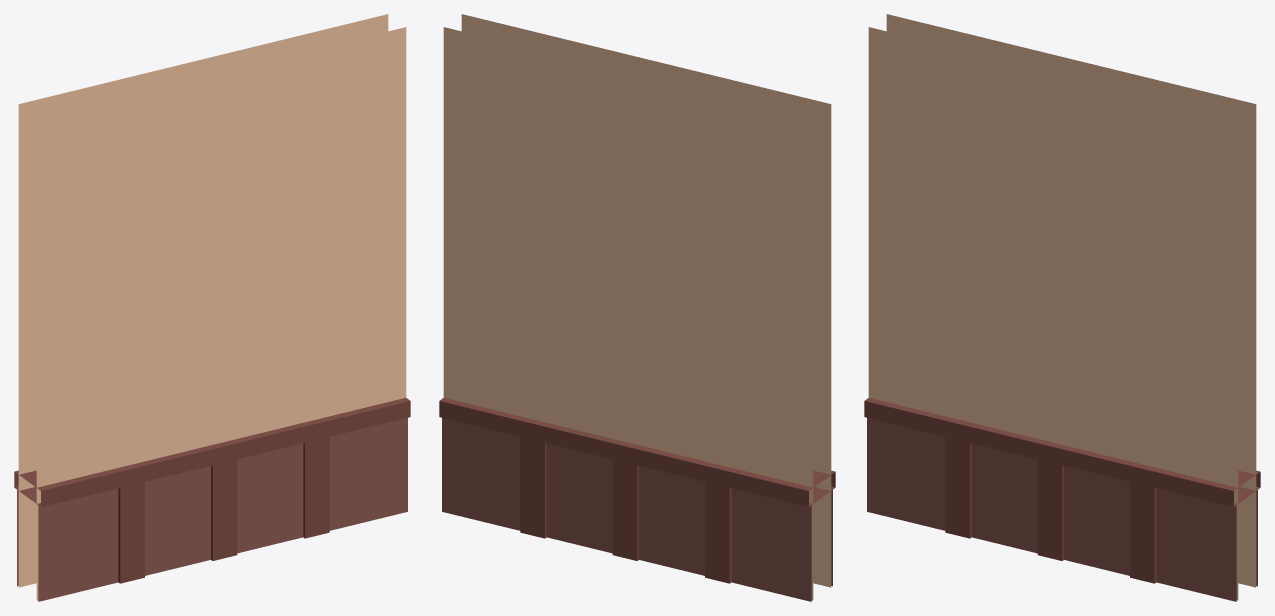
File: Wall_3.fbx
3 renders of one model, left to right at view 1: azimuth 30°, elevation 25°; view 2: azimuth 150°, elevation 25°; view 3: azimuth 330°, elevation 25°, orthographic.
Visible parts, largest first — view 1: Wall_3; view 2: Wall_3; view 3: Wall_3.
Part boxes in pixels (box(x1,y1,x2,y2)): Wall_3: box(14, 14, 410, 601); Wall_3: box(439, 14, 835, 601); Wall_3: box(864, 14, 1260, 601).
Bounding box in the file's own units: 2.4 × 0.3 × 3.
